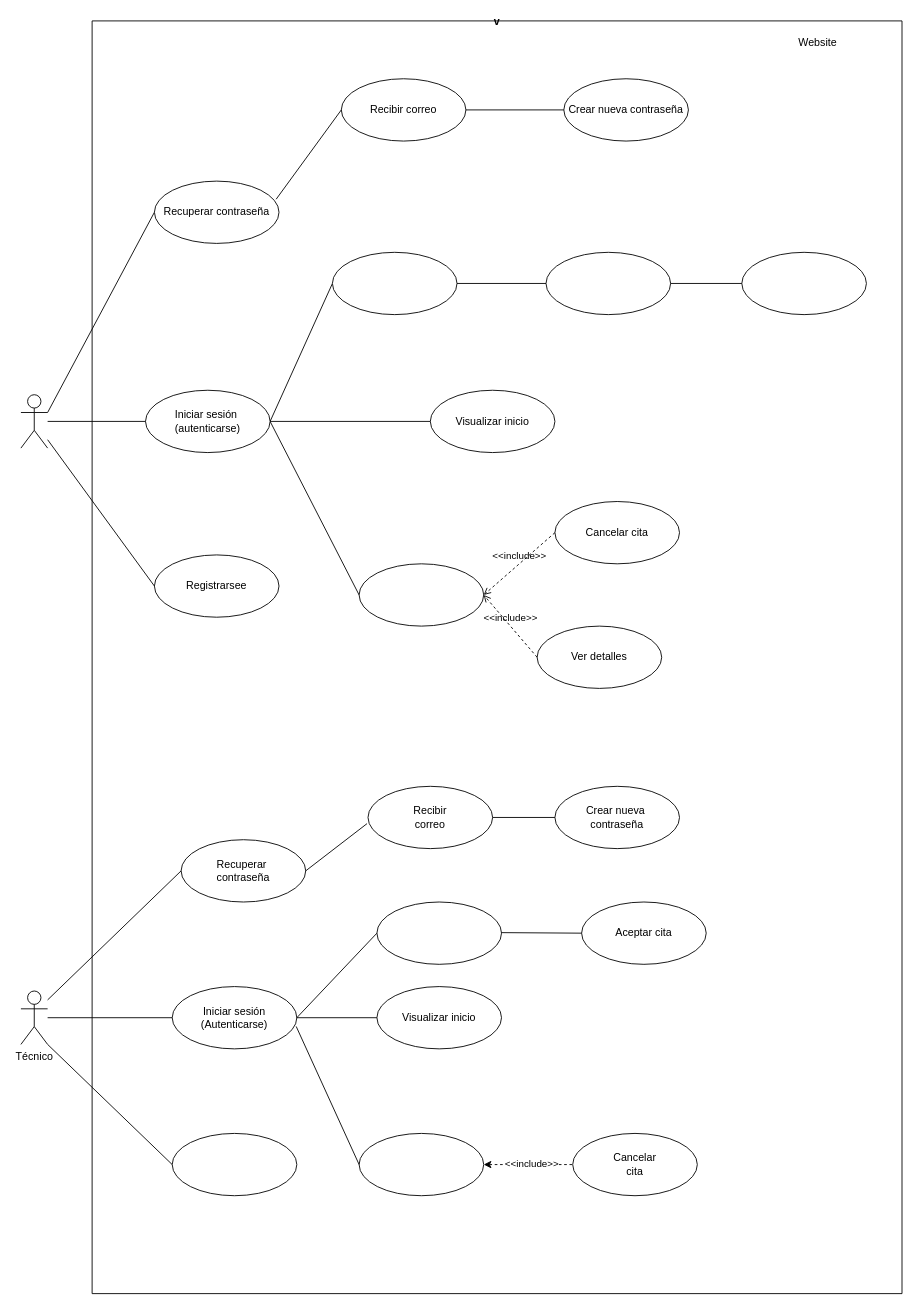
Image size: 918x1309. Some labels were removed from this diagram. The box of each missing label's shape, as (x1, y1, x2, y2) in pixels:
Agendar citas: (332, 251, 457, 315)
Cliente: (20, 394, 48, 448)
Ingresar informacion: (545, 251, 671, 315)
Mi agenda: (358, 1133, 484, 1196)
Mis propuestas: (376, 901, 502, 964)
Realizar pago: (741, 251, 866, 315)
Registrase: (171, 1133, 297, 1196)
Ver mis agenda: (358, 563, 484, 626)
